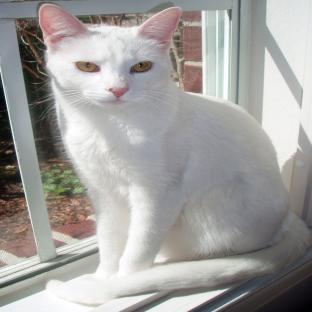Animal: (39, 3, 312, 304)
